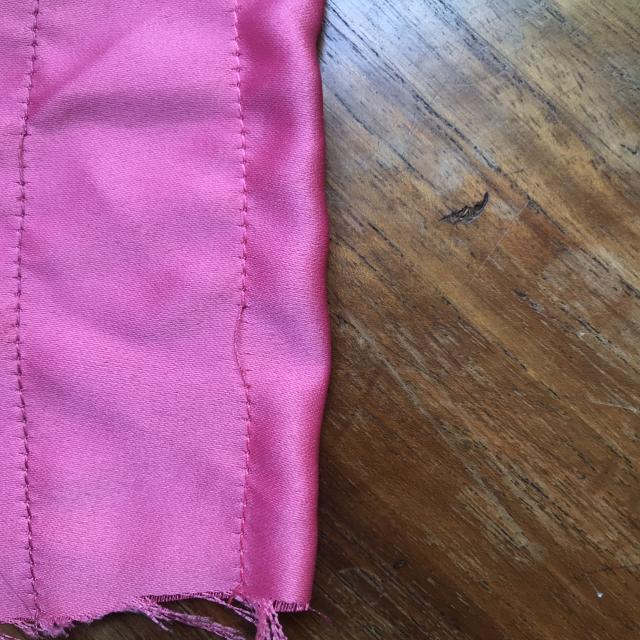skip: (214, 284, 270, 400)
